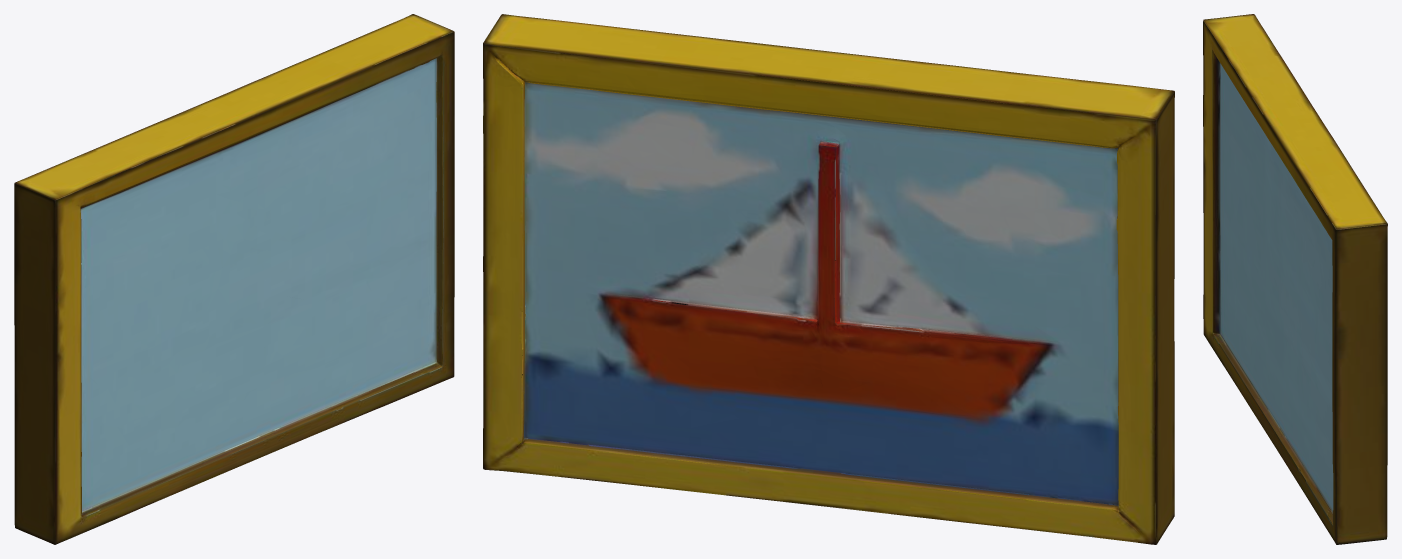
Rendered from framed_sailboat_picture_on_wall_000.glb.
3 renders of one model, left to right at view 1: azimuth 30°, elevation 25°; view 2: azimuth 150°, elevation 25°; view 3: azimuth 270°, elevation 25°, orthographic. The views are drawn at different scales.
Visible parts, largest first — view 1: phase2_final_framed_sailboat_picture_on_wall_000.obj; view 2: phase2_final_framed_sailboat_picture_on_wall_000.obj; view 3: phase2_final_framed_sailboat_picture_on_wall_000.obj.
Boxes of the visible parts, <box> form: phase2_final_framed_sailboat_picture_on_wall_000.obj: <box>14,14,454,544</box>; phase2_final_framed_sailboat_picture_on_wall_000.obj: <box>483,14,1174,544</box>; phase2_final_framed_sailboat_picture_on_wall_000.obj: <box>1203,14,1387,544</box>.
Size of the model in its own units: 0.41 by 0.2795 by 0.1482.
1 material, 1 textured.
